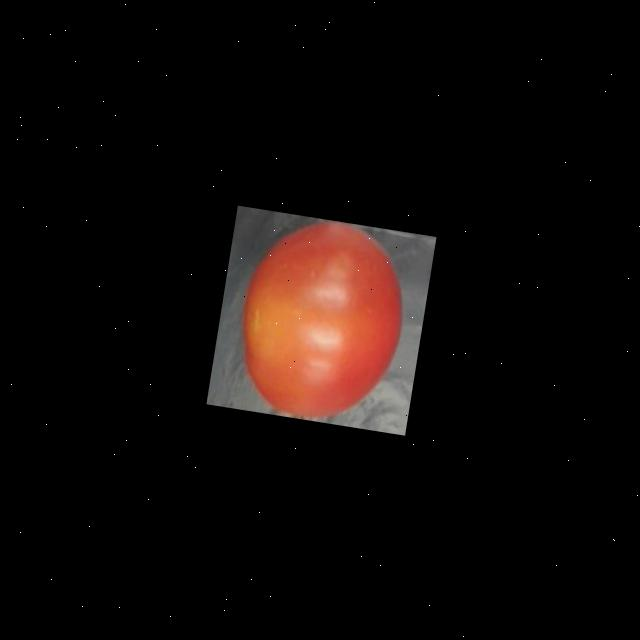tomato: (221, 208, 418, 432)
